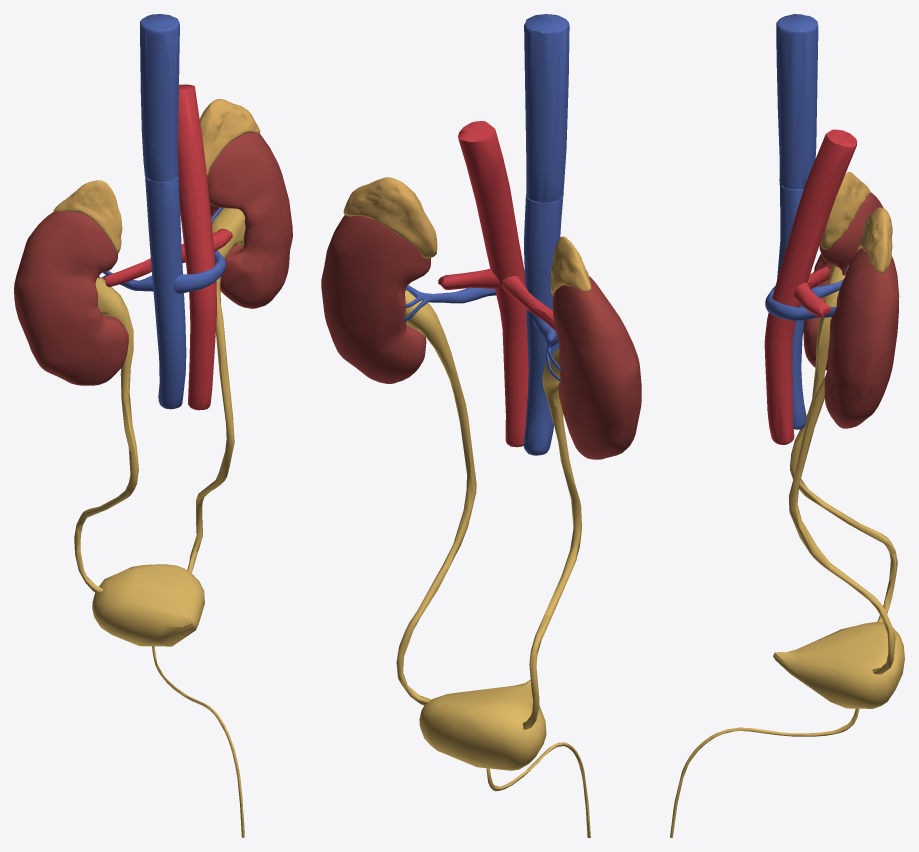
File: urinary.glb
3 renders of one model, left to right at view 1: azimuth 30°, elevation 25°; view 2: azimuth 150°, elevation 25°; view 3: azimuth 270°, elevation 25°, orthographic. The views are drawn at different scales.
Visible parts, largest first — view 1: правая почка, нижняя полая вена (×2), левая почка, брюшная аорта, мочевой пузырь, левый мочеточник, правый мочеточник, левый надпочечник, правый надпочечник, левая почечная вена, мочеиспускательный канал, правая почечная артерия; view 2: нижняя полая вена (×2), левая почка, правая почка, брюшная аорта, мочевой пузырь, левый мочеточник, левый надпочечник, правый мочеточник, правый надпочечник, правая почечная артерия, левая почечная артерия, мочеиспускательный канал (+1 smaller); view 3: левая почка, брюшная аорта, нижняя полая вена (×2), мочевой пузырь, правый мочеточник, левый мочеточник, правая почка, правый надпочечник, левый надпочечник, мочеиспускательный канал, левая почечная вена, левая почечная артерия.
Part boxes in pixels (<box>): правая почка: <box>14,211,128,385</box>; нижняя полая вена (×2): <box>140,14,186,409</box>; левая почка: <box>207,132,292,308</box>; брюшная аорта: <box>177,84,216,410</box>; мочевой пузырь: <box>92,564,204,646</box>; левый мочеточник: <box>187,208,245,573</box>; правый мочеточник: <box>74,277,138,593</box>; левый надпочечник: <box>199,99,260,175</box>; правый надпочечник: <box>53,180,122,252</box>; левая почечная вена: <box>173,250,225,293</box>; мочеиспускательный канал: <box>152,646,244,837</box>; правая почечная артерия: <box>104,243,185,287</box>; нижняя полая вена (×2): <box>523,14,569,455</box>; левая почка: <box>321,215,430,383</box>; правая почка: <box>552,276,641,459</box>; брюшная аорта: <box>458,121,528,447</box>; мочевой пузырь: <box>419,679,546,770</box>; левый мочеточник: <box>396,290,476,705</box>; левый надпочечник: <box>343,177,437,258</box>; правый мочеточник: <box>522,349,581,729</box>; правый надпочечник: <box>550,236,591,295</box>; правая почечная артерия: <box>501,276,555,330</box>; левая почечная артерия: <box>438,269,500,289</box>; мочеиспускательный канал: <box>486,742,590,837</box>; левая почка: <box>824,248,899,428</box>; брюшная аорта: <box>764,129,857,444</box>; нижняя полая вена (×2): <box>776,14,818,429</box>; мочевой пузырь: <box>773,621,904,708</box>; правый мочеточник: <box>790,265,897,623</box>; левый мочеточник: <box>789,375,895,674</box>; правая почка: <box>803,192,883,370</box>; правый надпочечник: <box>820,172,870,249</box>; левый надпочечник: <box>857,207,892,273</box>; мочеиспускательный канал: <box>670,708,859,837</box>; левая почечная вена: <box>765,286,835,320</box>; левая почечная артерия: <box>794,282,830,318</box>.
Bounding box in the file's own units: 0.178 × 0.4819 × 0.1276.
